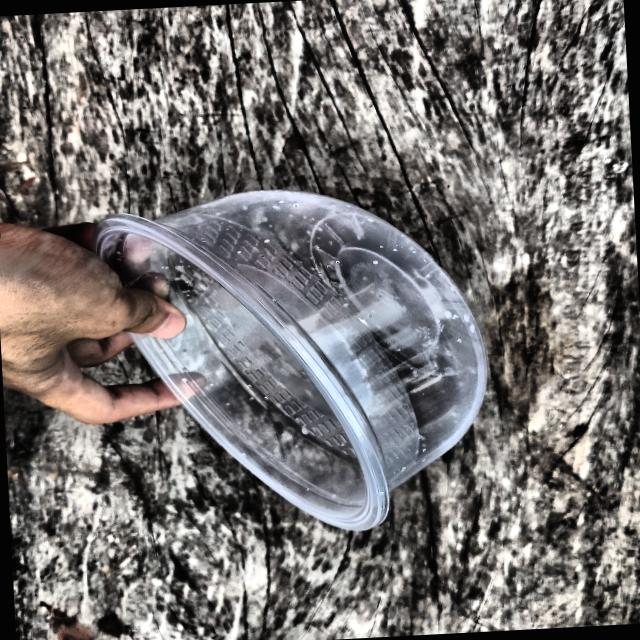plastic container: (86, 160, 495, 552)
